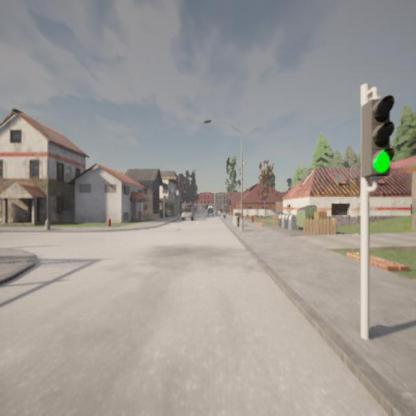traffic_light_green: (370, 95, 394, 175)
